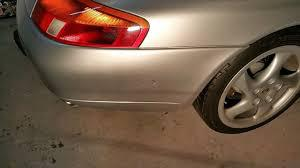quaterpanel-dent: (94, 46, 213, 115)
